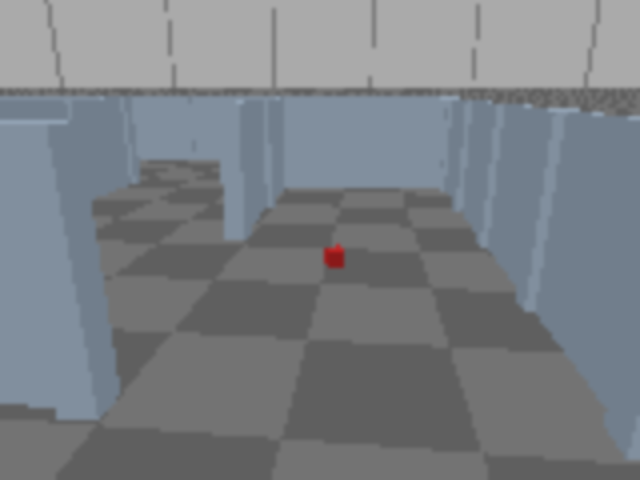puck: (324, 245, 345, 268)
